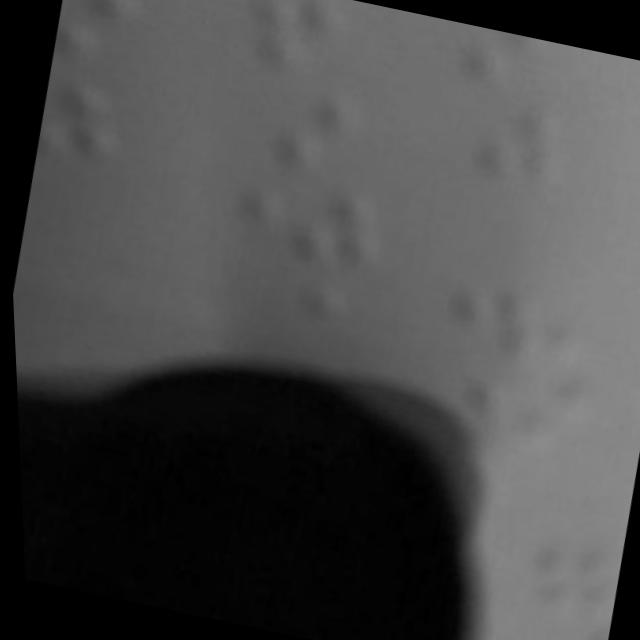braiile: (399, 82, 583, 200), (209, 170, 394, 286), (200, 76, 379, 190), (428, 278, 588, 384), (391, 10, 567, 96)
